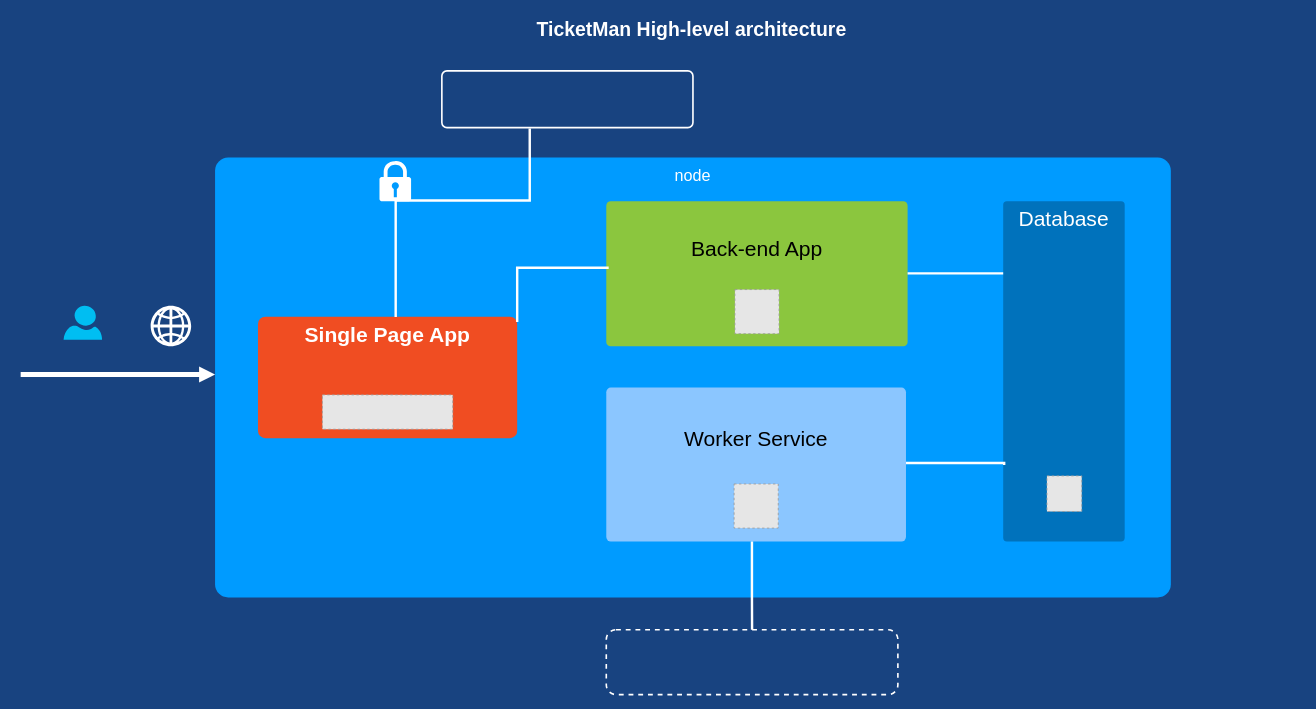
Some shapes in this 1316 by 709 pixel diagram are drawn without their labels. Grey dashed boxes stand in for pictures. The centre of each missing label's shape, as x and y in pixels:
"Application Users" goes at point (82, 322).
"Azure Entra ID" goes at point (567, 99).
"Exchange Mail Server | O365" goes at point (751, 662).
